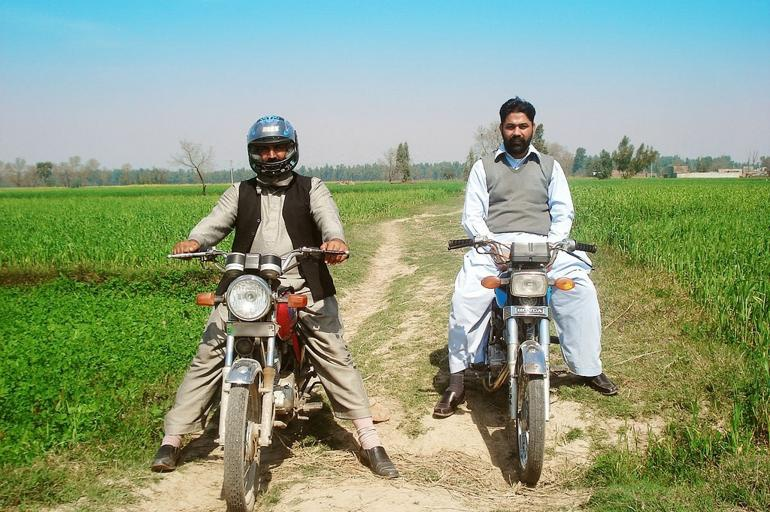non-vehicle: (166, 246, 349, 512), (446, 234, 596, 486)
